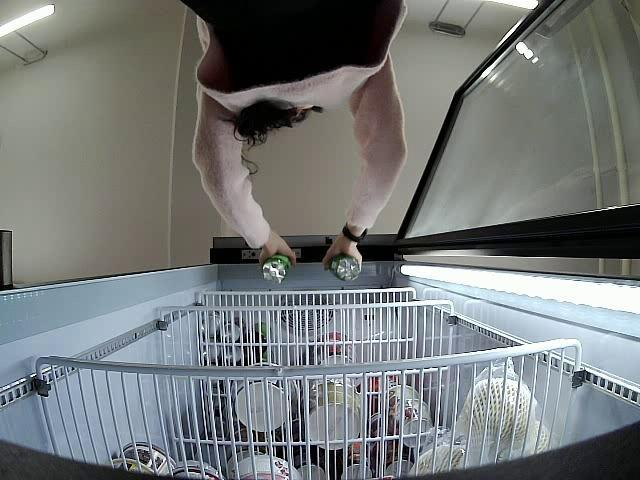18_trevi: (329, 253, 358, 281), (264, 254, 290, 283)
